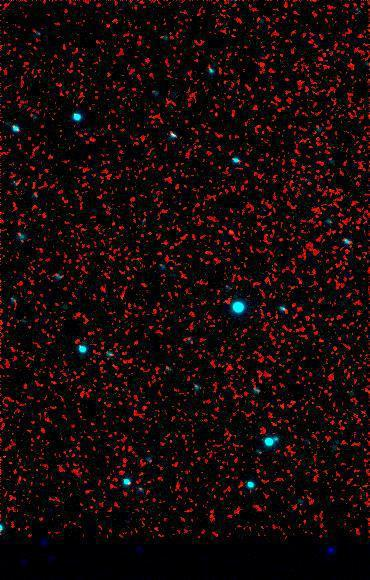star: (216, 216, 246, 246)
